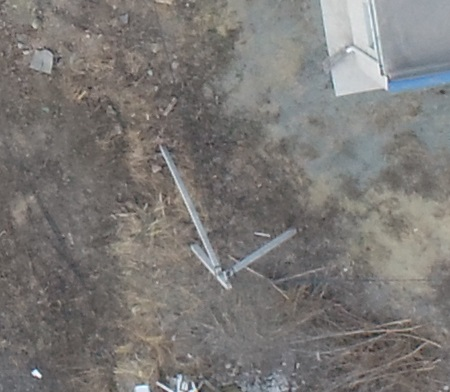opora: (157, 141, 298, 290)
